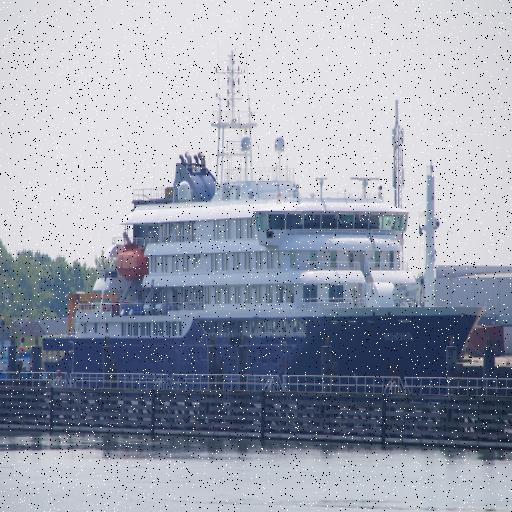cruises: (36, 55, 491, 407)
